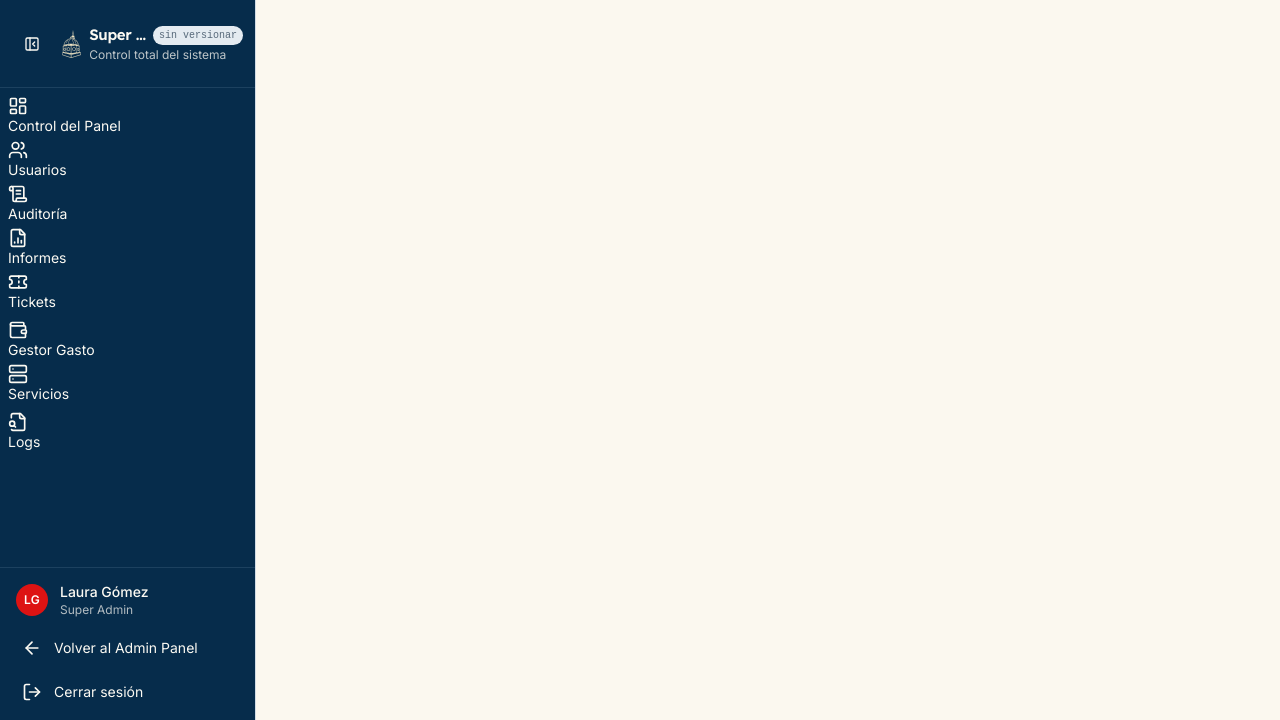
Test case: pie del menú superadmin › abre «Mi cuenta» con sus datos, sus secciones y el cambio de contraseña
Click the button with test id "boton-mi-cuenta". click: (128, 600)
box: [8,576,247,624]
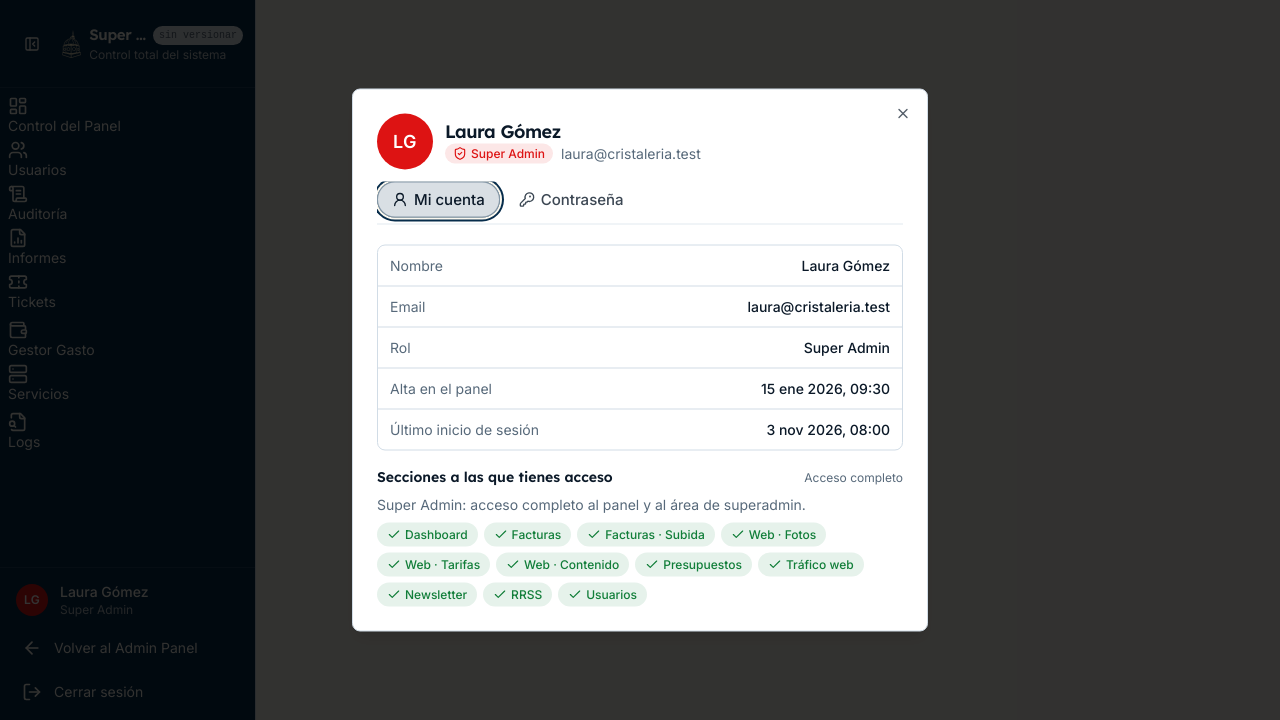
Expected: the text "laura@cristaleria.test" in the row of "Email" is shown, [747,298,890,314]
Expected: the text "Super Admin" is shown, [804,338,890,358]
Expected: the text "Último inicio de sesión" is shown, [390,420,539,440]
Press the mouse on the tab "Contraseña" at (571, 200), box [504,182,639,218]
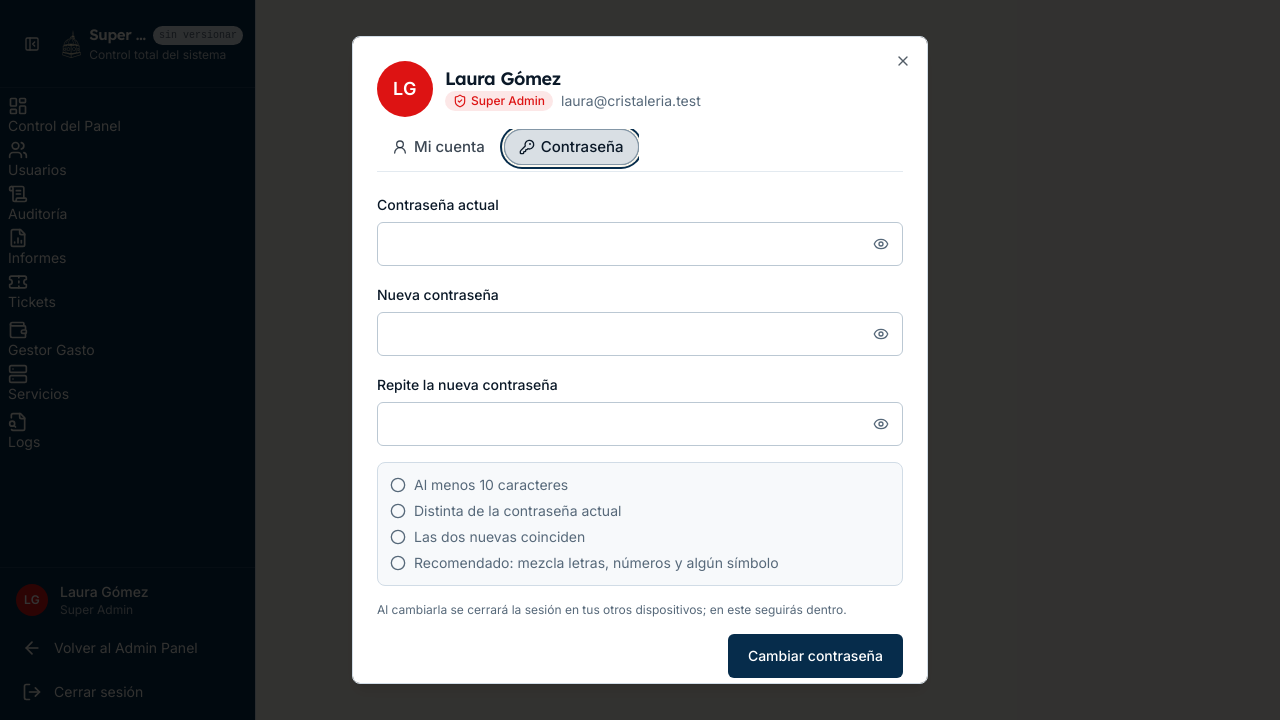
Expected: the password field labelled "Contraseña actual" is shown, [377,222,903,266]
Expected: the password field labelled "Nueva contraseña" is shown, [377,312,903,356]
